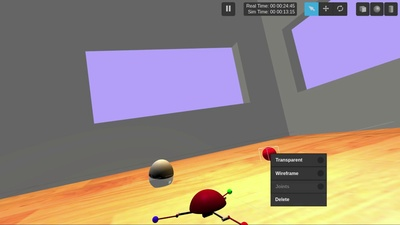mira_robot: (149, 159, 174, 188)
